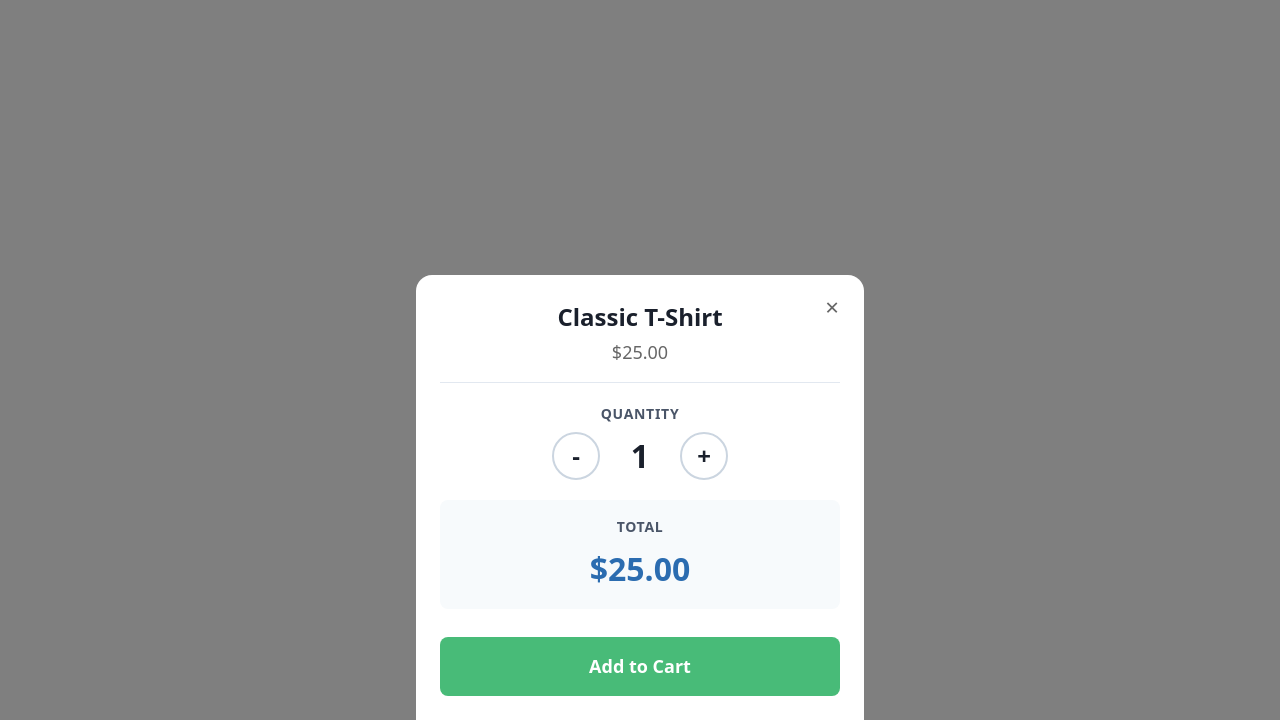
ProductPicker › shows correct total based on quantity
Expected: the text with test id "total-price" reads "$25.00", [590,547,690,590]
Click the button named "Increase quantity" at x=704, y=456, box [680,432,728,480]
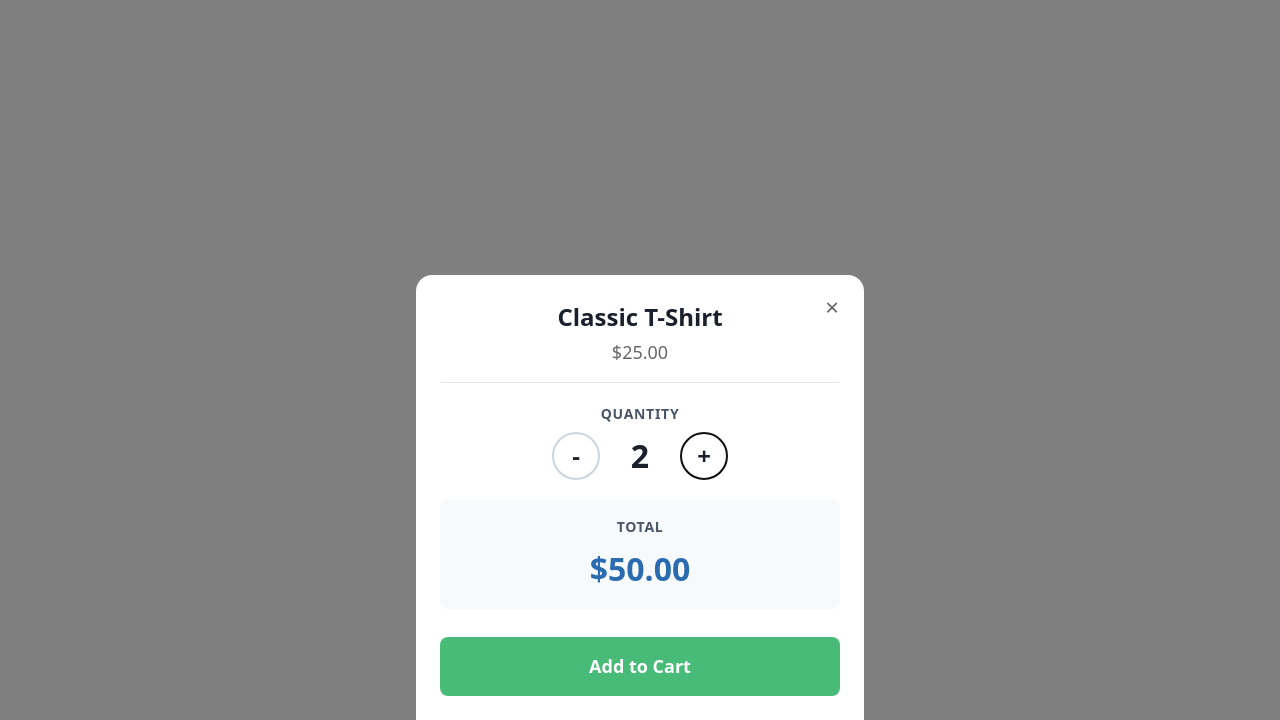
Now the text with test id "total-price" reads "$50.00", box [590,547,690,590]
